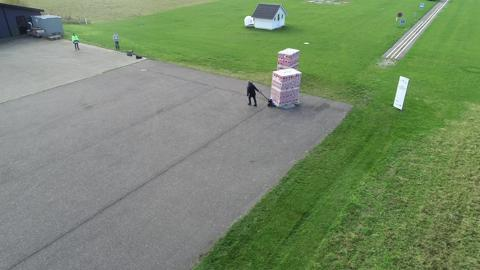RockwoolPallet: (276, 45, 297, 76)
